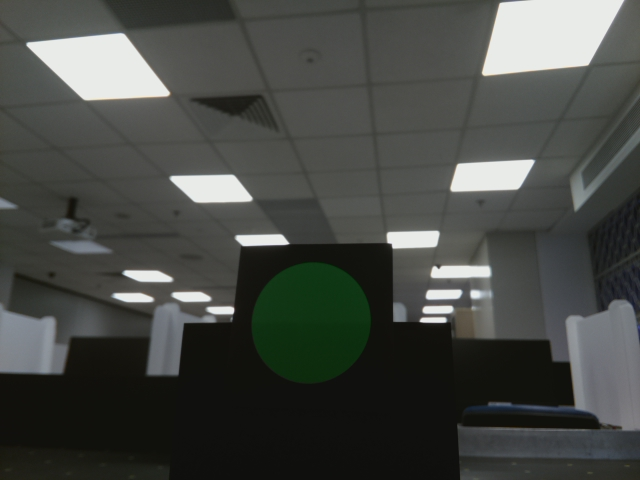go: (242, 259, 378, 390)
